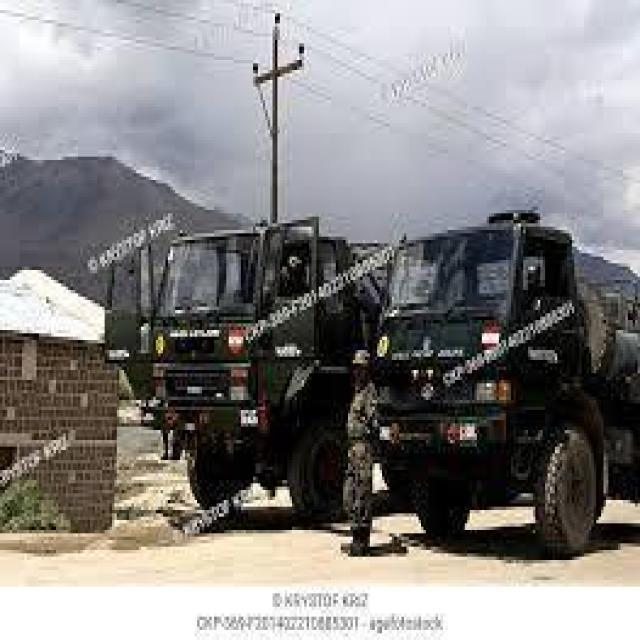MIL_MBT: (99, 173, 320, 527), (374, 223, 573, 557)
